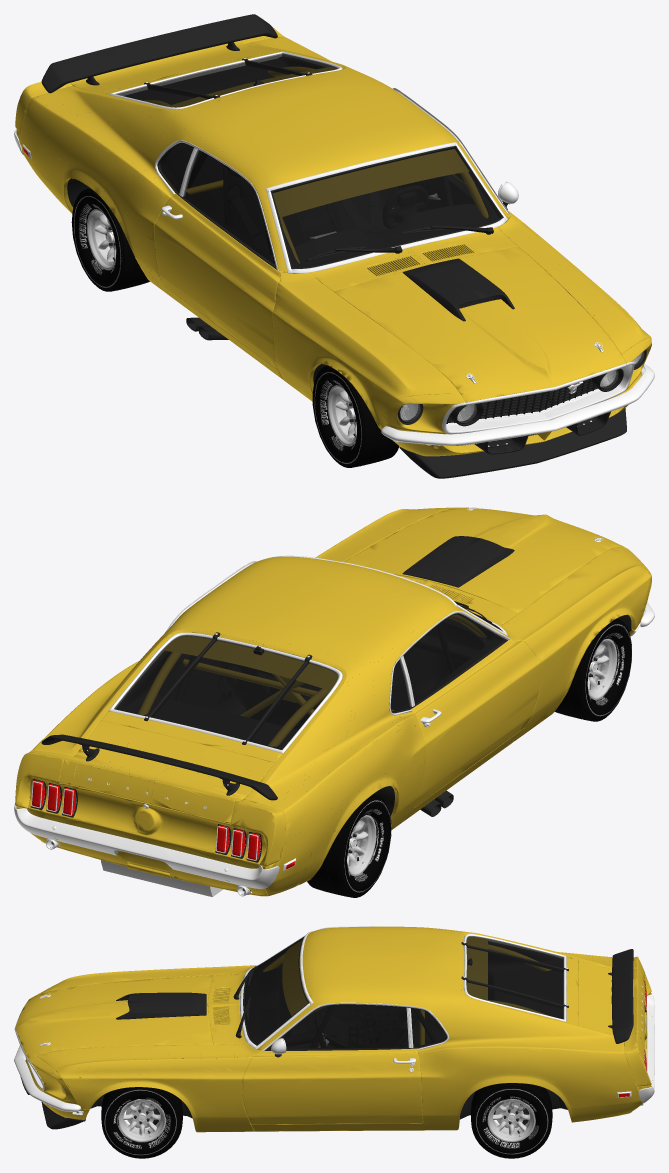
The model's file is ford-mustang-1969.glb.
3 renders of one model, top to bottom at view 1: azimuth 30°, elevation 25°; view 2: azimuth 150°, elevation 25°; view 3: azimuth 270°, elevation 25°, orthographic. The views are drawn at different scales.
Visible parts, largest first — view 1: Object_60, Object_62, Object_146, Object_114, Object_144, Object_50, Object_32, Object_52, Object_64, Object_92, Object_38, Object_104 (+14 smaller); view 2: Object_62, Object_60, Object_146, Object_114, Object_144, Object_88, Object_50, Object_94, Object_52, Object_32, Object_122, Object_64 (+10 smaller); view 3: Object_62, Object_60, Object_146, Object_114, Object_144, Object_50, Object_64, Object_32, Object_26, Object_52, Object_140, Object_128 (+9 smaller).
Part boxes in pixels (x1,y1,x2,y2): Object_60: [15, 40, 650, 440]; Object_62: [16, 36, 651, 383]; Object_146: [115, 53, 500, 267]; Object_114: [124, 56, 499, 267]; Object_144: [71, 188, 594, 467]; Object_50: [399, 258, 626, 478]; Object_32: [41, 14, 646, 424]; Object_52: [223, 165, 623, 426]; Object_64: [28, 27, 651, 456]; Object_92: [381, 364, 654, 445]; Object_38: [67, 142, 610, 454]; Object_104: [442, 361, 634, 434]; Object_62: [15, 513, 541, 896]; Object_60: [59, 507, 650, 895]; Object_146: [114, 603, 502, 749]; Object_114: [116, 618, 502, 749]; Object_144: [91, 619, 631, 897]; Object_88: [14, 804, 279, 894]; Object_50: [402, 536, 514, 587]; Object_94: [109, 605, 507, 753]; Object_52: [224, 644, 418, 729]; Object_32: [41, 667, 277, 891]; Object_122: [32, 780, 260, 860]; Object_64: [15, 547, 651, 859]; Object_62: [38, 926, 650, 1131]; Object_60: [15, 929, 651, 1132]; Object_146: [244, 936, 563, 1049]; Object_114: [237, 941, 562, 1057]; Object_144: [101, 1083, 552, 1158]; Object_50: [41, 992, 206, 1129]; Object_64: [25, 960, 651, 1121]; Object_32: [611, 949, 633, 1043]; Object_26: [134, 1005, 436, 1132]; Object_52: [307, 1006, 417, 1047]; Object_140: [487, 1098, 535, 1142]; Object_128: [118, 1099, 166, 1142].
Size of what is drawn, in the model's own units: 184 by 125 by 467.
15 materials, 1 textured.
